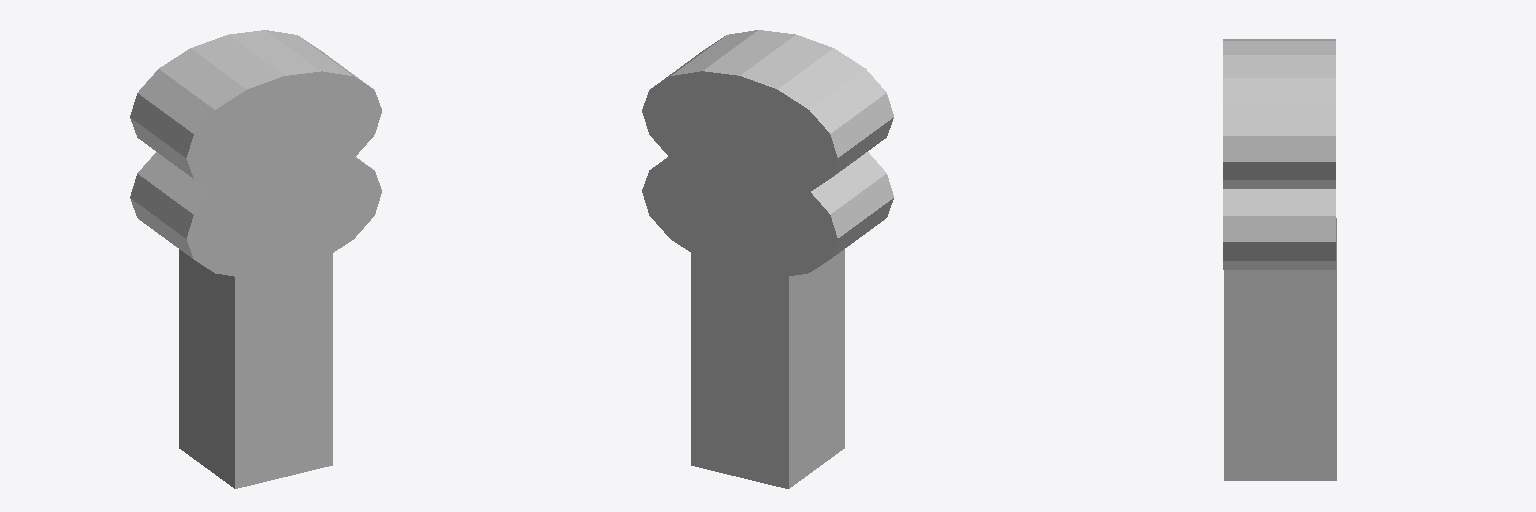
The model's file is receptor-guitar.obj.
The picture shows the model from 3 angles: view 1: azimuth 30°, elevation 25°; view 2: azimuth 150°, elevation 25°; view 3: azimuth 270°, elevation 25°; orthographic projection.
Parts seen in each view (by area): view 1: guitar2_Cube.010; view 2: guitar2_Cube.010; view 3: guitar2_Cube.010.
Part boxes in pixels (x1,y1,x2,y2): guitar2_Cube.010: (130, 30, 381, 488); guitar2_Cube.010: (642, 30, 893, 488); guitar2_Cube.010: (1223, 39, 1336, 480).
Size of the model in its own units: 4 by 7.83 by 2.01.